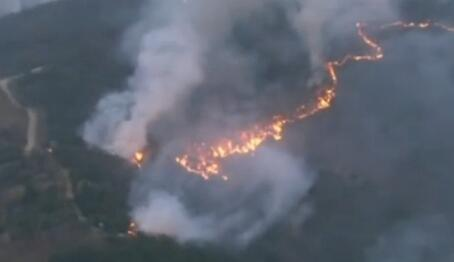fire: (171, 61, 338, 178), (335, 15, 454, 64), (128, 148, 151, 169), (125, 223, 135, 237)
yanwu: (74, 0, 447, 256)
